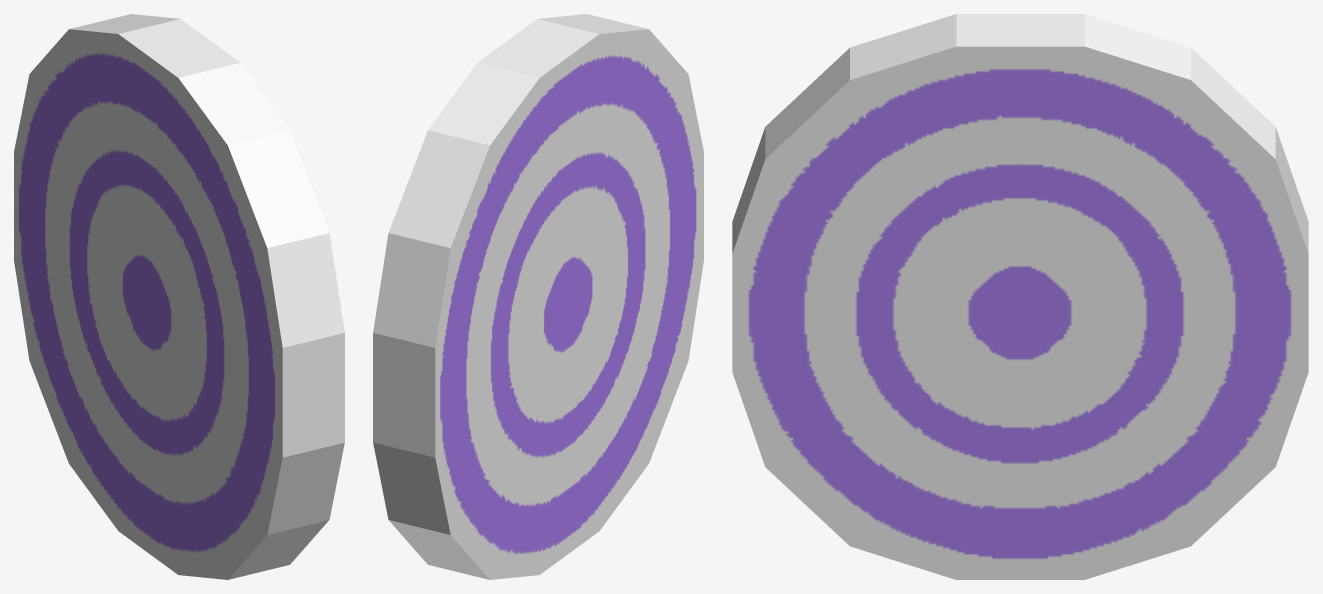
File: Target Violet.fbx
3 renders of one model, left to right at view 1: azimuth 30°, elevation 25°; view 2: azimuth 150°, elevation 25°; view 3: azimuth 270°, elevation 25°, orthographic. The views are drawn at different scales.
Visible parts, largest first — view 1: Target Violet; view 2: Target Violet; view 3: Target Violet.
Part boxes in pixels (x1=…): Target Violet: x1=14, y1=14, x2=344, y2=579; Target Violet: x1=373, y1=14, x2=703, y2=579; Target Violet: x1=732, y1=14, x2=1308, y2=579.
Bounding box in the file's own units: 32.83 × 251 × 246.
